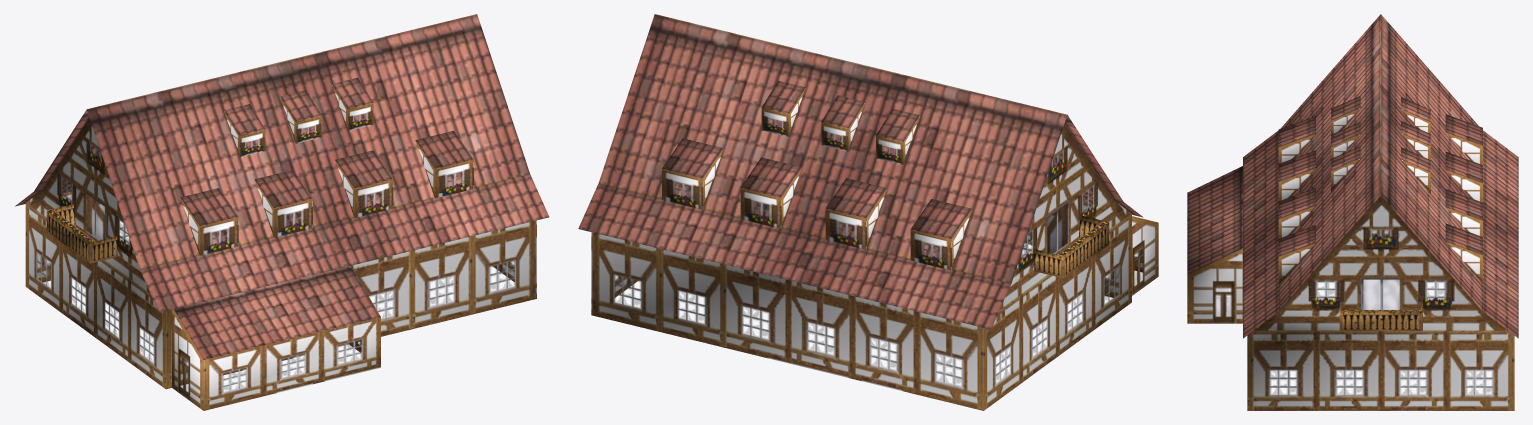
Rendered from Civilian - Civilian Building - German Cotage 01 - CBGCtage01.glb.
3 renders of one model, left to right at view 1: azimuth 30°, elevation 25°; view 2: azimuth 150°, elevation 25°; view 3: azimuth 270°, elevation 25°, orthographic. The views are drawn at different scales.
Parts seen in each view (by area): view 1: CBGCTAGE01; view 2: CBGCTAGE01; view 3: CBGCTAGE01.
Boxes of the visible parts, left/top/right/bottom form: CBGCTAGE01: left=15, top=14, right=549, bottom=410; CBGCTAGE01: left=578, top=14, right=1158, bottom=410; CBGCTAGE01: left=1187, top=14, right=1518, bottom=410.
Size of the model in its own units: 87.1 by 45.18 by 61.65.
Materials: 1 (1 with a texture image).
